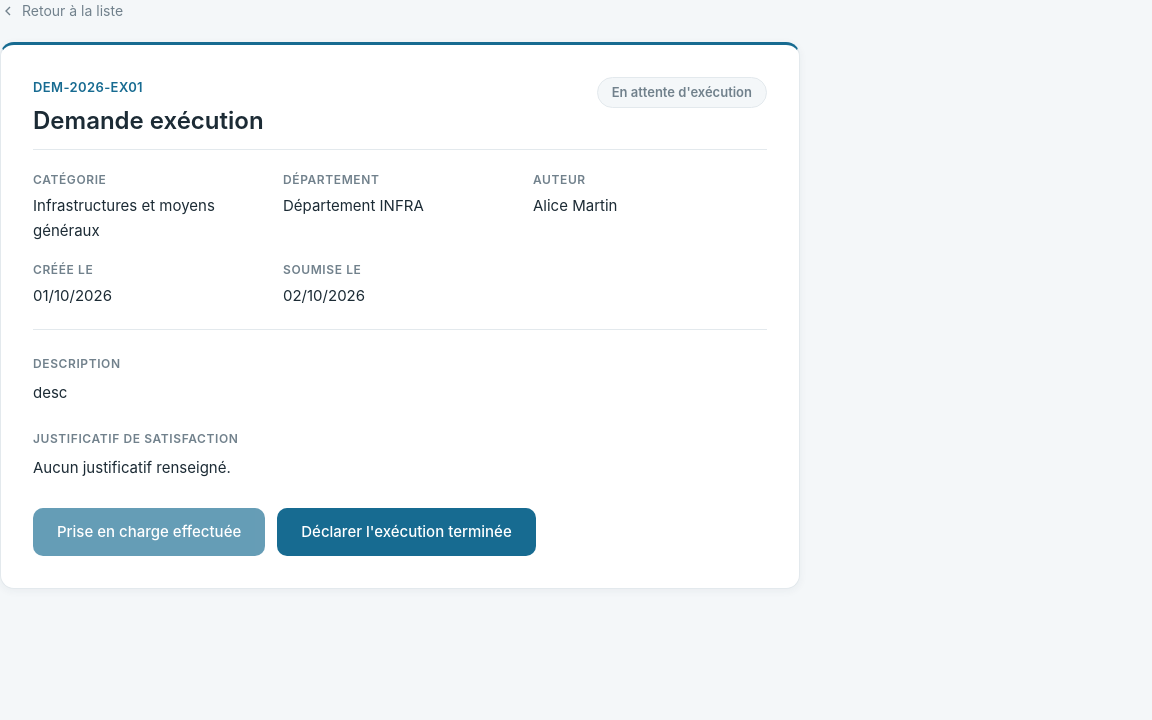
Scenario: exec UI : la déclaration exige une URL de justificatif non vide
Click the button "Déclarer l'exécution terminée".
click(406, 532)  # box left=277, top=508, right=536, bottom=556
(page scrolled)
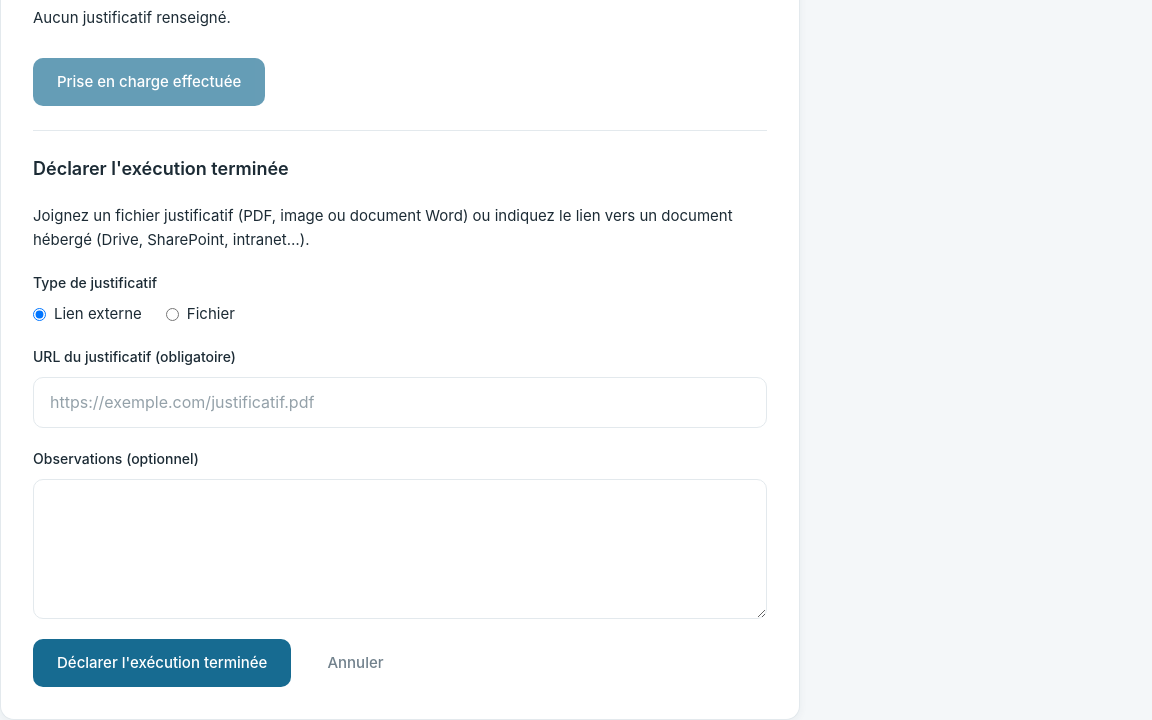
Click the button "Déclarer l'exécution terminée".
click(162, 663)  # box left=33, top=639, right=291, bottom=687
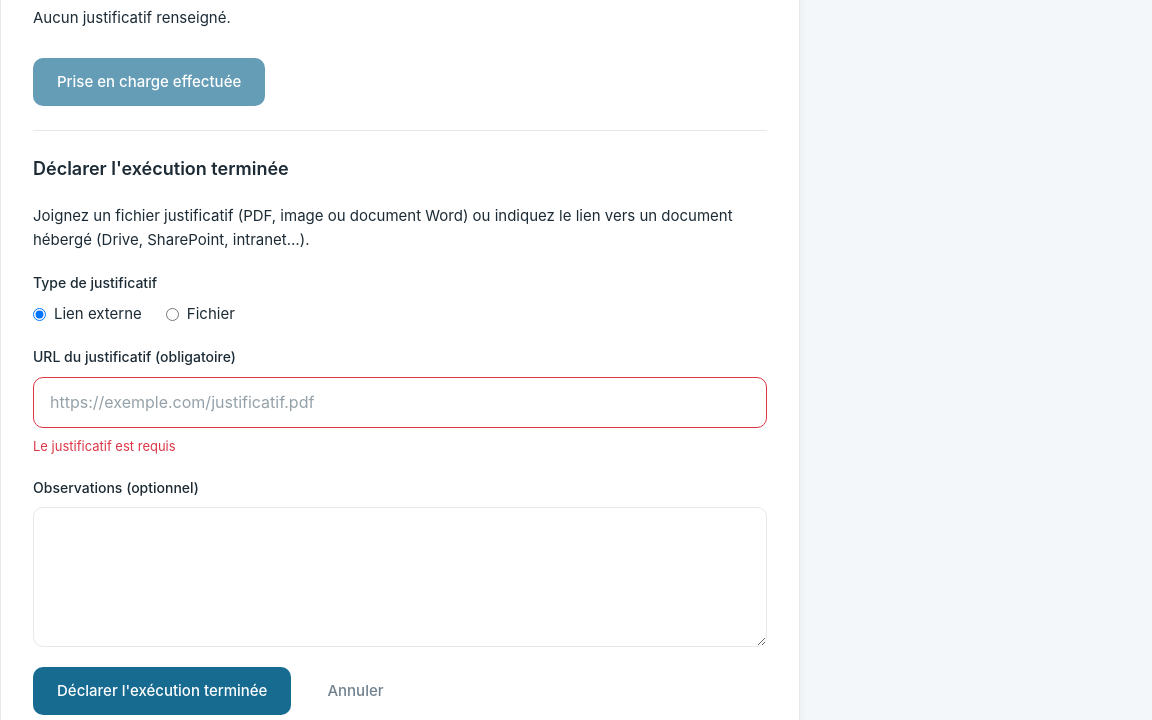
Now the message "Le justificatif est requis" is shown, box left=33, top=438, right=176, bottom=454
